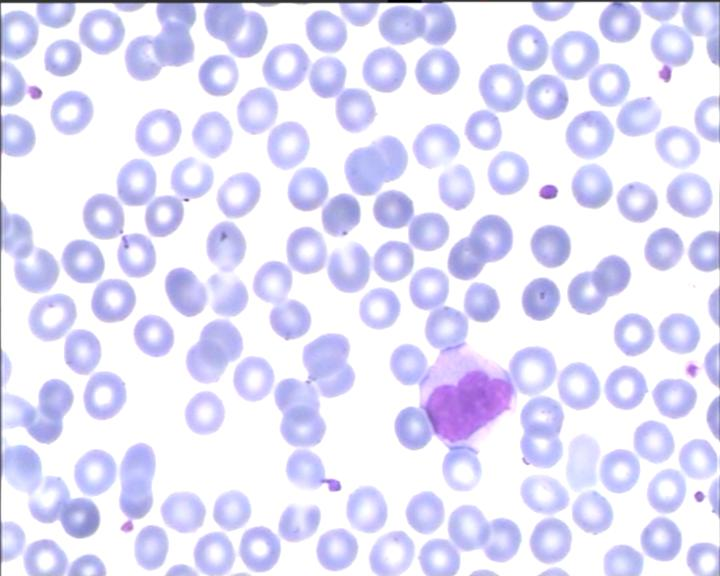mono: (415, 338, 522, 453)
